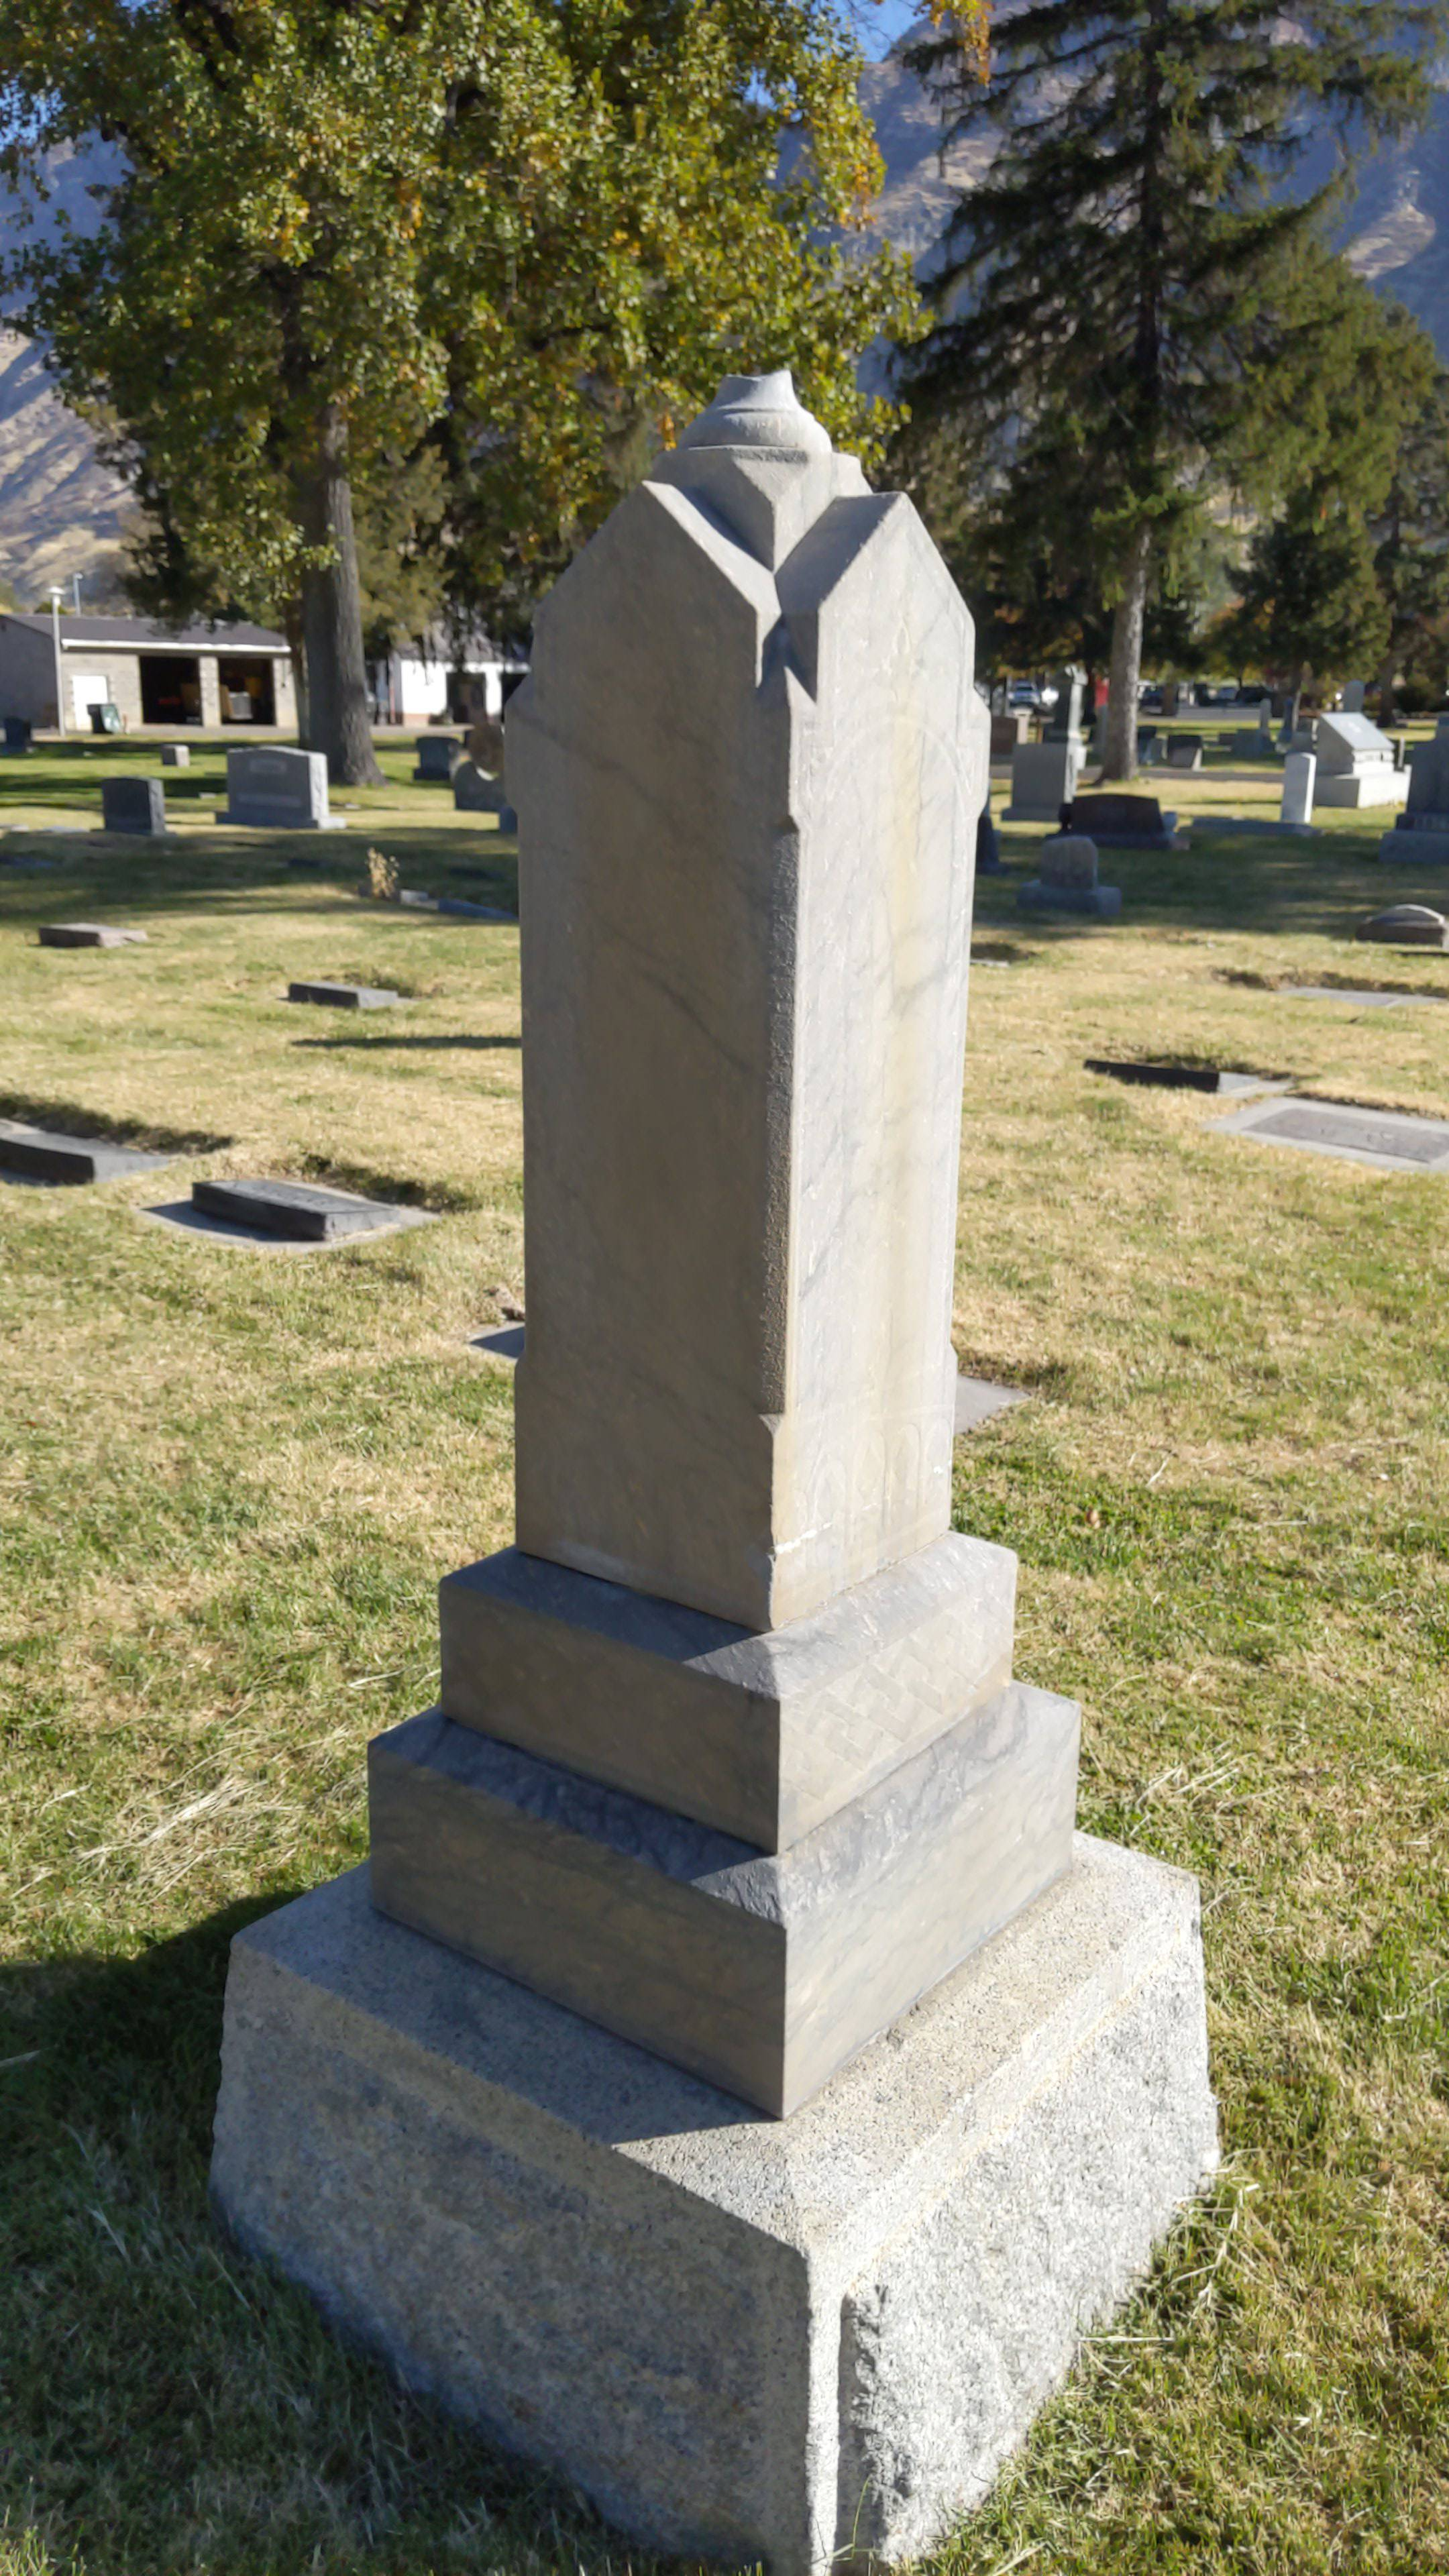obelisk: (380, 372, 1083, 2104)
